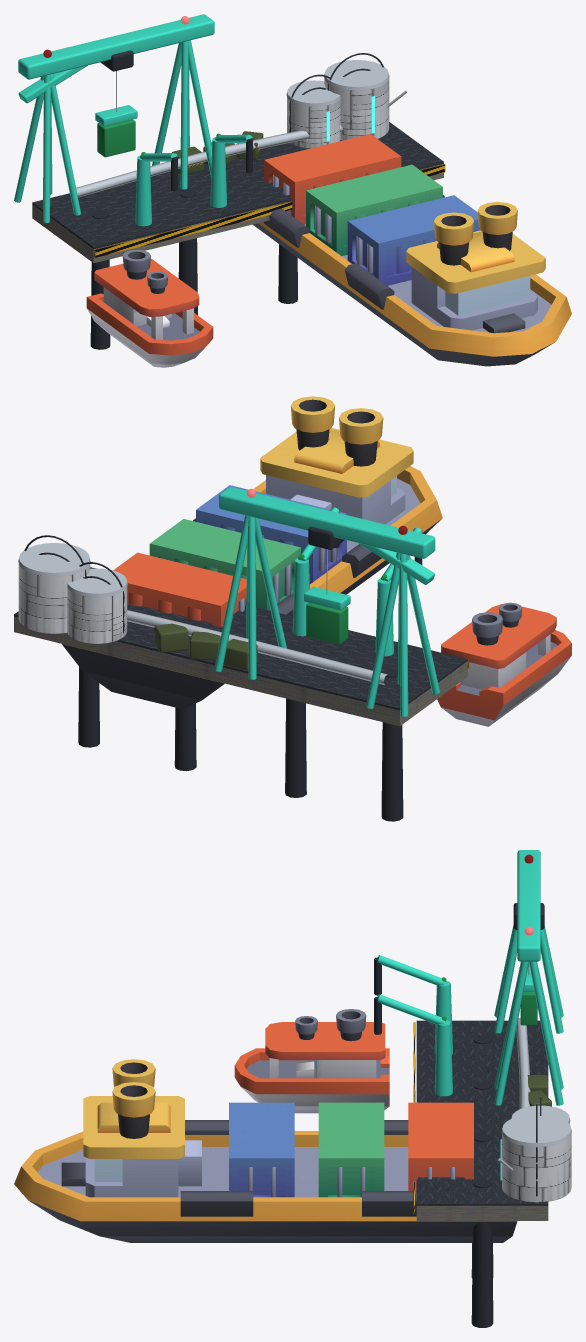
File: dock-T2.glb
3 views of the same model, one above another, from view 1: azimuth 30°, elevation 25°; view 2: azimuth 150°, elevation 25°; view 3: azimuth 270°, elevation 25° (orthographic). The views are drawn at different scales.
Parts seen in each view (by area): view 1: ship-cargo-a, object 6, boat-tug-a, cargo-b, cargo-a, cargo-c, object 30, object 35, anim:trolley, object 5, object 7, object 16 (+15 smaller); view 2: ship-cargo-a, boat-tug-a, object 6, object 5, cargo-c, cargo-b, object 30, cargo-a, object 35, anim:trolley, object 42, object 16 (+18 smaller); view 3: ship-cargo-a, boat-tug-a, object 6, cargo-b, cargo-a, cargo-c, object 35, object 30, object 4, object 5, object 36, object 12 (+9 smaller).
Part boxes in pixels (box(x1,y1,x2,y2)): ship-cargo-a: box(253, 195, 571, 366); object 6: box(32, 122, 443, 248); boat-tug-a: box(86, 249, 213, 367); cargo-b: box(306, 164, 442, 256); cargo-a: box(347, 195, 480, 285); cargo-c: box(264, 134, 401, 224); object 30: box(18, 14, 214, 79); object 35: box(324, 78, 389, 140); anim:trolley: box(95, 50, 137, 157); object 5: box(32, 163, 443, 263); object 7: box(94, 164, 445, 257); object 16: box(76, 125, 343, 197); ship-cargo-a: box(62, 396, 442, 709); boat-tug-a: box(437, 602, 571, 726); object 6: box(14, 567, 467, 710); object 5: box(14, 616, 467, 726); cargo-c: box(113, 552, 246, 627); cargo-b: box(149, 519, 300, 610); object 30: box(219, 487, 435, 558); cargo-a: box(196, 485, 346, 583); object 35: box(18, 563, 90, 633); anim:trolley: box(304, 526, 350, 644); object 42: box(67, 587, 127, 643); object 16: box(127, 610, 387, 684); ship-cargo-a: box(14, 1059, 517, 1242); boat-tug-a: box(234, 1009, 389, 1113); object 6: box(416, 1020, 548, 1205); cargo-b: box(318, 1102, 384, 1197); cargo-a: box(229, 1102, 294, 1197); cargo-c: box(408, 1102, 473, 1190); object 35: box(502, 1134, 571, 1202); object 30: box(517, 850, 540, 961); object 4: box(471, 1179, 493, 1327); object 5: box(416, 1205, 548, 1220); object 36: box(501, 1114, 571, 1146); object 12: box(434, 1020, 452, 1096).
Bounding box in the file's own units: 5.95 × 4.39 × 7.2.
16 materials, 6 textured.
